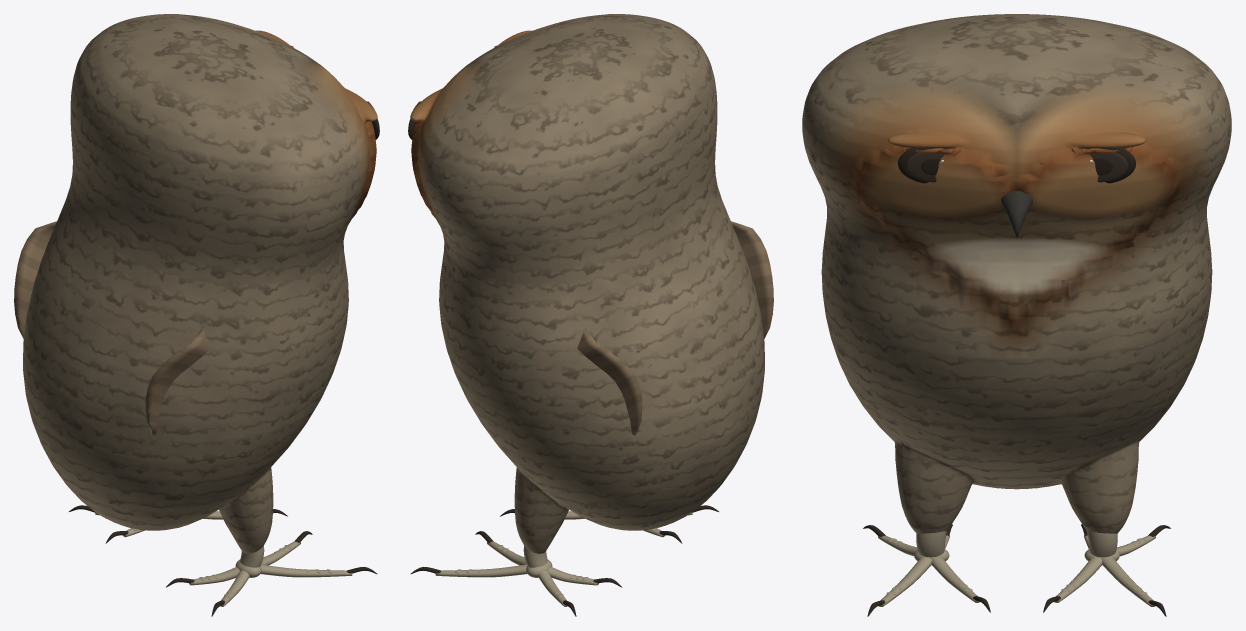
Rendered from owl172_run87b_cc0_anatomy_transfer_ART_REJECTED_PENDING.glb.
3 views of the same model, side by side, from view 1: azimuth 30°, elevation 25°; view 2: azimuth 150°, elevation 25°; view 3: azimuth 270°, elevation 25° (orthographic). The views are drawn at different scales.
Visible parts, largest first — view 1: Continuous anatomical skin | owl, Cambered folded wing foundation, Cambered folded wing foundation.001, Articulated bird toe 1; view 2: Continuous anatomical skin | owl, Cambered folded wing foundation.001, Cambered folded wing foundation, Articulated bird toe 1.001; view 3: Continuous anatomical skin | owl, Closed descending upper hook and seated cere, Bare raptor tarsus seated inside thigh and foot.001, Bare raptor tarsus seated inside thigh and foot, Articulated bird toe 1.001, Articulated bird toe 1, Articulated bird toe 0.001, Articulated bird toe 0, Flush golden owl iris, Flush golden owl iris.001.
Boxes of the visible parts, x1,y1,x2,y2 form: Continuous anatomical skin | owl: (23, 14, 377, 553); Cambered folded wing foundation: (145, 328, 210, 435); Cambered folded wing foundation.001: (14, 221, 56, 338); Articulated bird toe 1: (260, 564, 352, 577); Continuous anatomical skin | owl: (410, 14, 764, 553); Cambered folded wing foundation.001: (577, 328, 642, 435); Cambered folded wing foundation: (731, 221, 773, 338); Articulated bird toe 1.001: (435, 564, 527, 577); Continuous anatomical skin | owl: (802, 14, 1231, 533); Closed descending upper hook and seated cere: (1001, 191, 1032, 238); Bare raptor tarsus seated inside thigh and foot.001: (1087, 531, 1117, 557); Bare raptor tarsus seated inside thigh and foot: (916, 531, 946, 557); Articulated bird toe 1.001: (1102, 557, 1155, 606); Articulated bird toe 1: (878, 557, 931, 606); Articulated bird toe 0.001: (1054, 557, 1102, 602); Articulated bird toe 0: (931, 557, 979, 602); Flush golden owl iris: (905, 152, 943, 182); Flush golden owl iris.001: (1090, 152, 1128, 182).
Size of the model in its own units: 0.2563 by 0.3936 by 0.2854.
9 materials, 8 textured.
